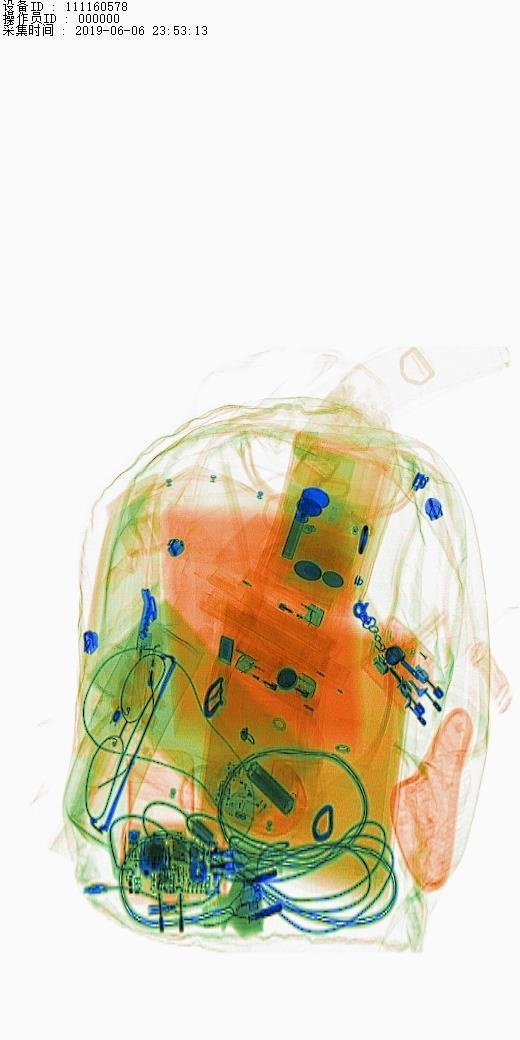NonmetallicFire: (211, 548, 347, 642), (206, 631, 330, 715), (117, 620, 187, 739)
